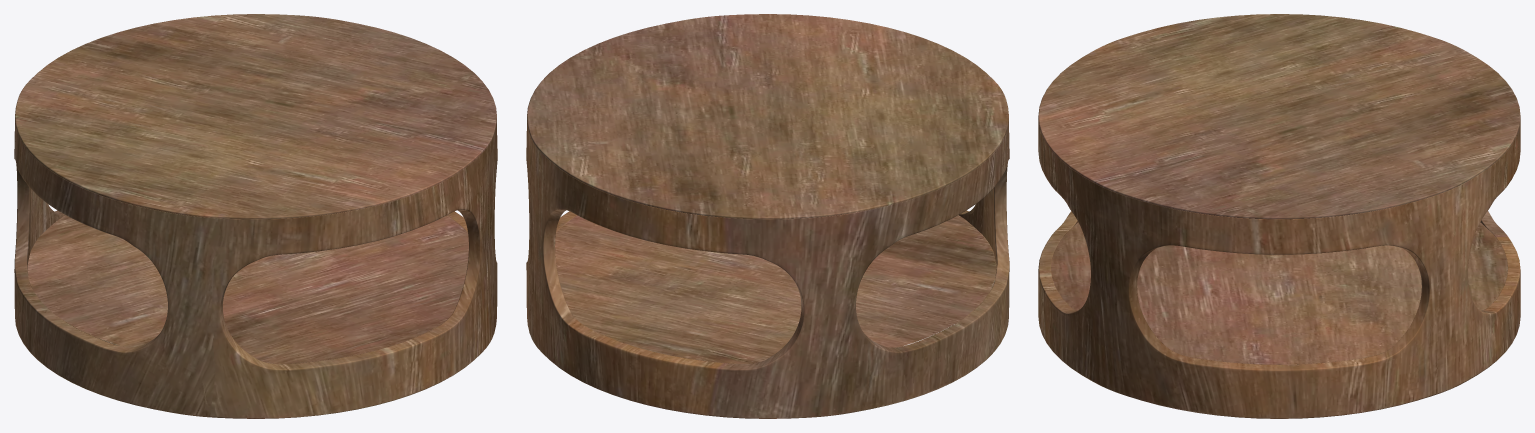
File: abo-B075ZDWPHC.glb
The picture shows the model from 3 angles, left to right: view 1: azimuth 30°, elevation 25°; view 2: azimuth 150°, elevation 25°; view 3: azimuth 270°, elevation 25°; orthographic projection.
Size of the model in its own units: 0.974 by 0.45 by 0.974.
Materials: 1 (1 with a texture image).
